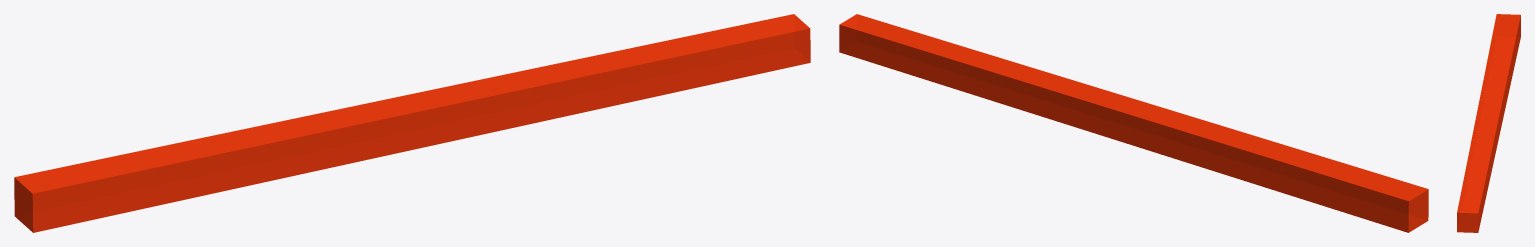
Rendered from Event_421556567_EErechit_45.fbx.
3 views of the same model, side by side, from view 1: azimuth 30°, elevation 25°; view 2: azimuth 150°, elevation 25°; view 3: azimuth 270°, elevation 25° (orthographic). The views are drawn at different scales.
Parts seen in each view (by area): view 1: Model; view 2: Model; view 3: Model.
Part boxes in pixels (x1,y1,x2,y2): Model: (14,14,810,232); Model: (839,14,1428,232); Model: (1457,14,1520,232).
Size of the model in its own units: 1.65 by 0.1037 by 0.2169.
